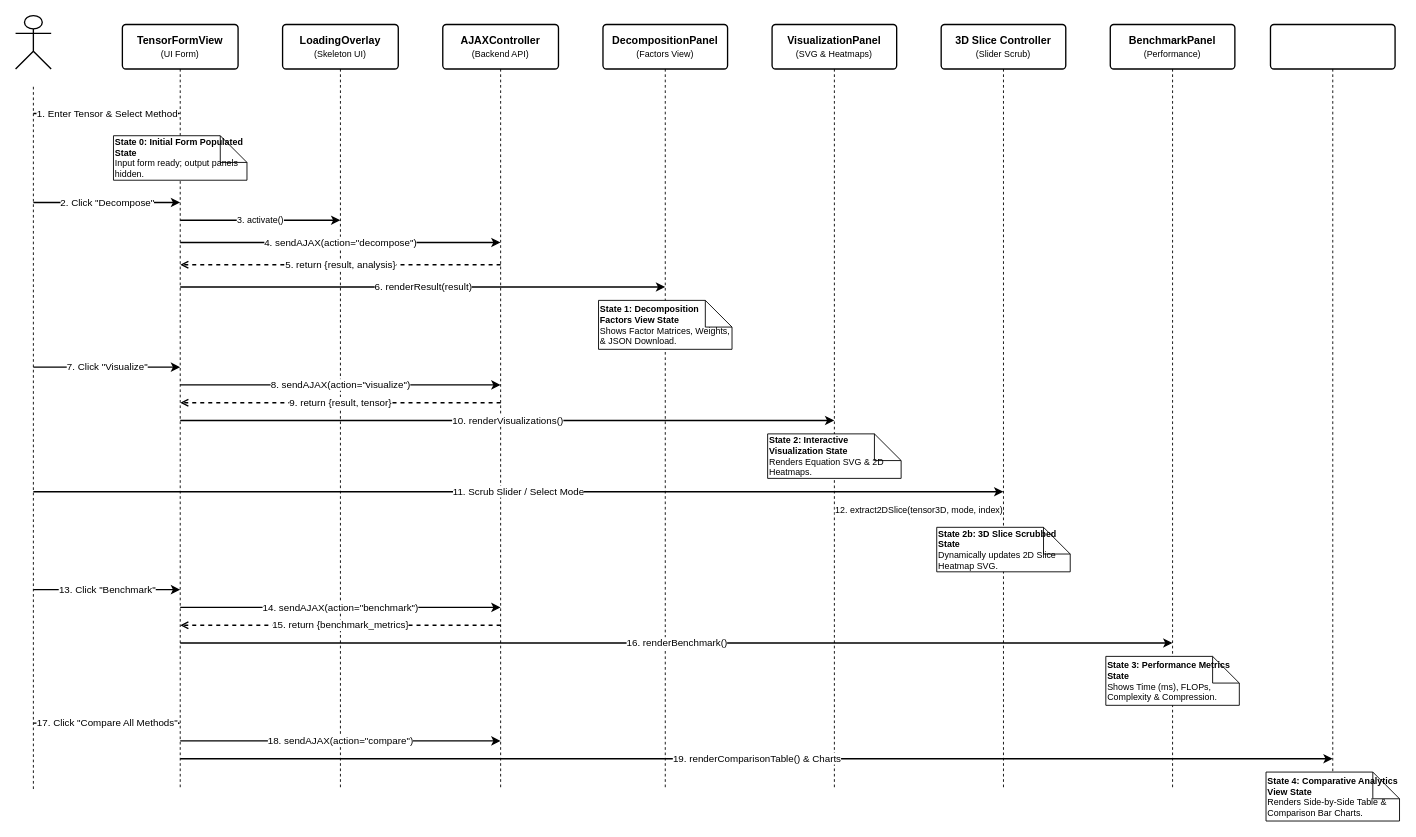
Some shapes in this 1416 by 837 pixel diagram are drawn without their labels. Here are the shapes that lost their labels. From the top down, the box of each, then its label:
(15, 15, 51, 69): User
(1269, 23, 1395, 69): ComparisonPanel (Comparison)
